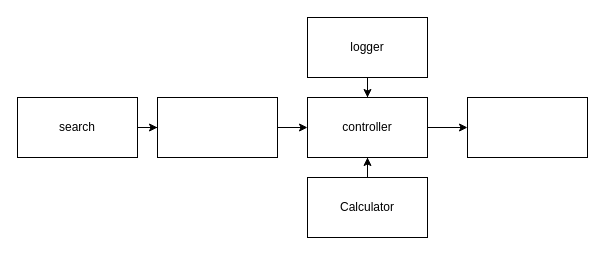
Image size: 605x255. Some labels were removed from this diagram. The centre of each missing label's shape, as x and y in pixels:
"main" belongs at (x=527, y=127).
"UI" belongs at (x=217, y=127).
